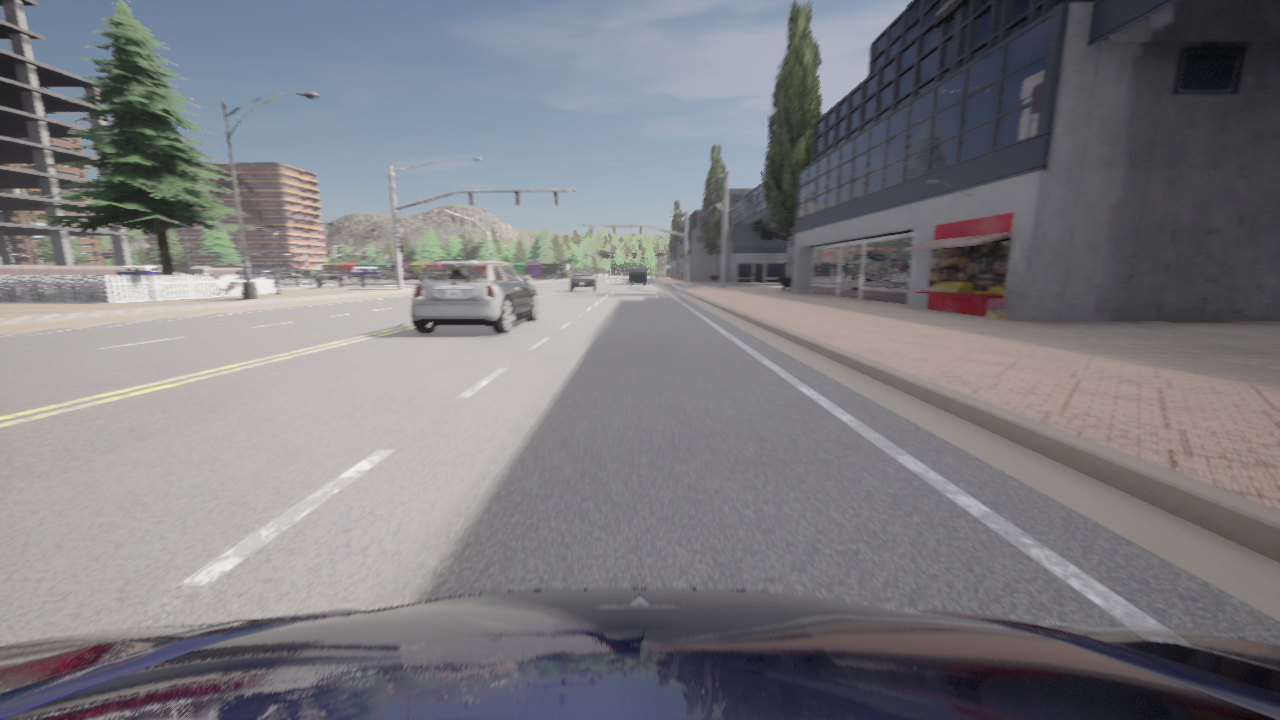cyclist: (0, 588, 1279, 719), (410, 260, 538, 333), (568, 269, 598, 291), (116, 265, 161, 279), (235, 269, 276, 279), (352, 267, 384, 279), (270, 268, 301, 279), (318, 271, 350, 280), (313, 268, 339, 279), (630, 266, 645, 284), (394, 271, 424, 280), (382, 269, 405, 278), (269, 271, 287, 279), (159, 268, 180, 274), (424, 267, 430, 274), (266, 271, 269, 272)
